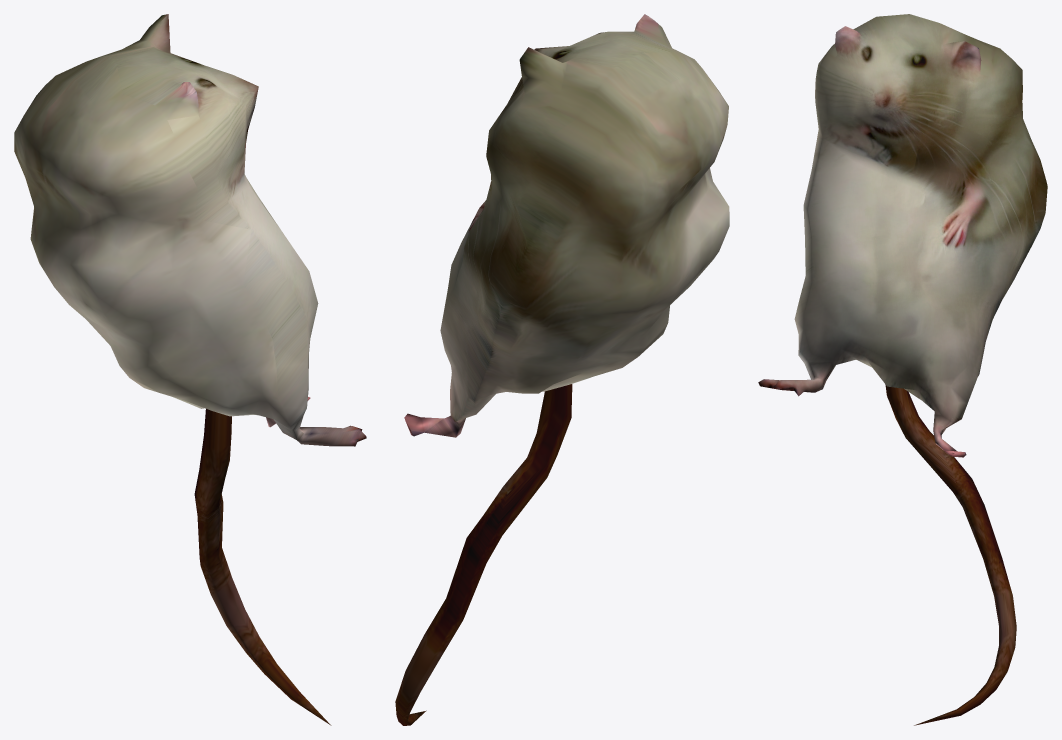
Rendered from robert_the_fat_rat.glb.
The picture shows the model from 3 angles, left to right: view 1: azimuth 30°, elevation 25°; view 2: azimuth 150°, elevation 25°; view 3: azimuth 270°, elevation 25°; orthographic projection. The views are drawn at different scales.
Visible parts, largest first — view 1: zck_w_snowballswep; view 2: zck_w_snowballswep; view 3: zck_w_snowballswep.
Part boxes in pixels (x1,y1,x2,y2): zck_w_snowballswep: (14, 14, 366, 725); zck_w_snowballswep: (395, 14, 729, 725); zck_w_snowballswep: (758, 14, 1047, 725).
Size of the model in its own units: 6.26 by 15.3 by 6.39.
Materials: 2 (2 with a texture image).
